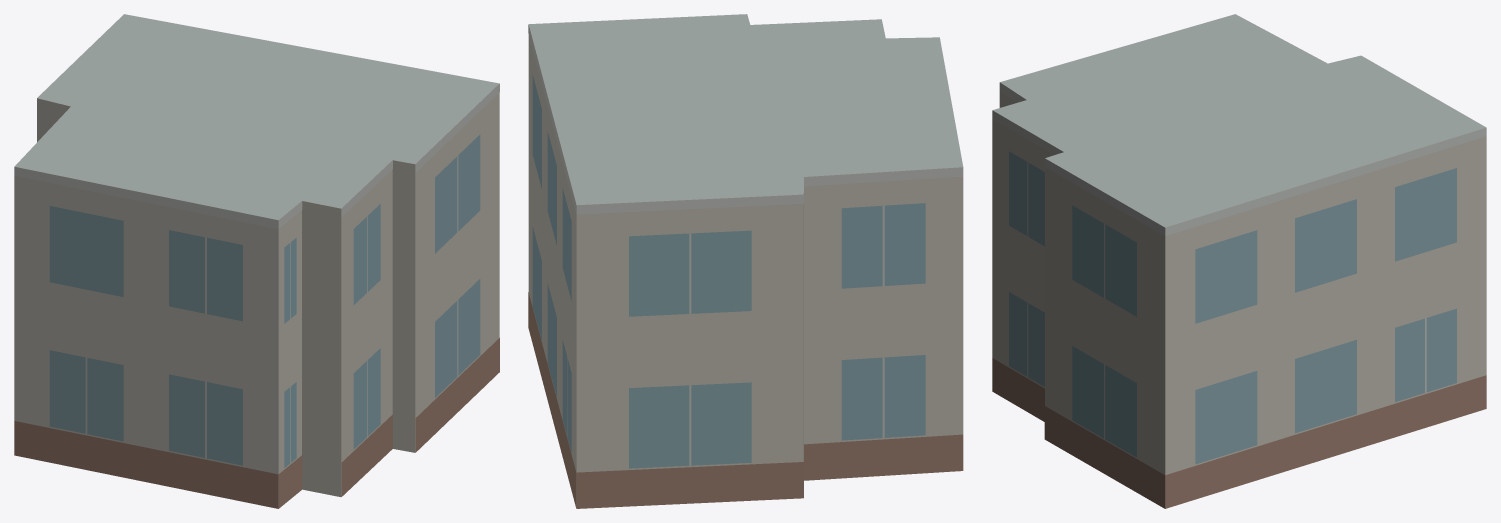
Rendered from survey-upis-32496668.glb.
3 views of the same model, side by side, from view 1: azimuth 30°, elevation 25°; view 2: azimuth 150°, elevation 25°; view 3: azimuth 270°, elevation 25° (orthographic). The views are drawn at different scales.
Visible parts, largest first — view 1: survey-upis-32496668.tmp; view 2: survey-upis-32496668.tmp; view 3: survey-upis-32496668.tmp.
Part boxes in pixels (box(x1,y1,x2,y2)): survey-upis-32496668.tmp: box(14, 14, 499, 508); survey-upis-32496668.tmp: box(528, 14, 963, 508); survey-upis-32496668.tmp: box(992, 14, 1486, 508).
Bounding box in the file's own units: 12.94 × 7.94 × 12.66.
